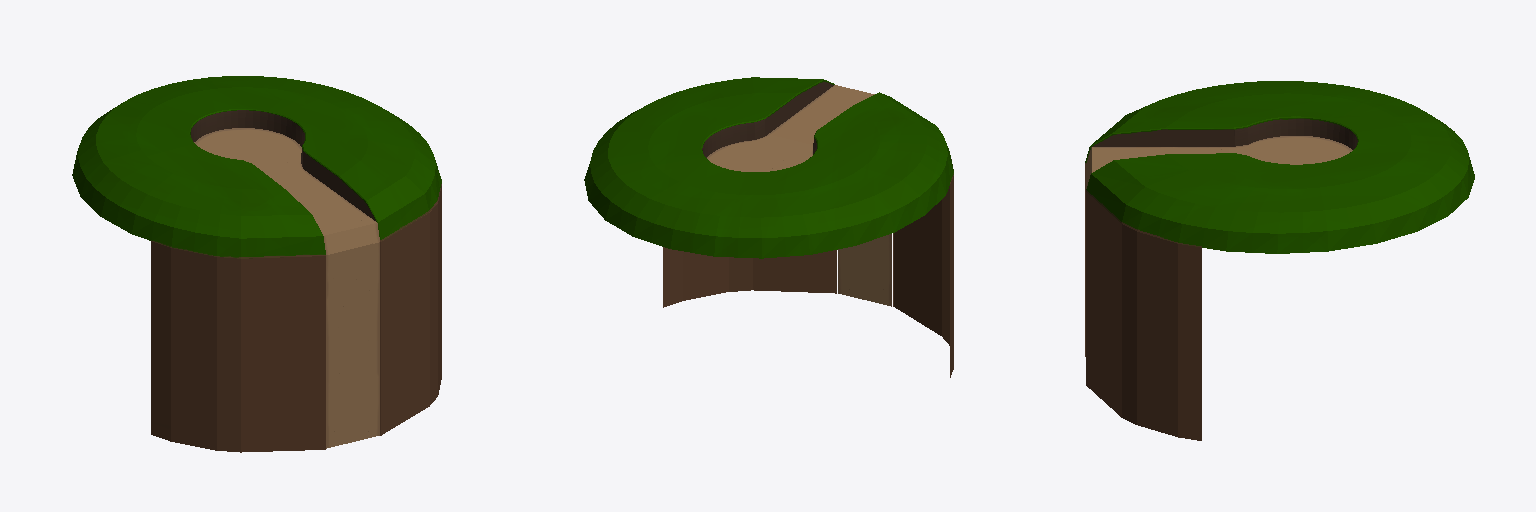
3 views of the same model, side by side, from view 1: azimuth 30°, elevation 25°; view 2: azimuth 150°, elevation 25°; view 3: azimuth 270°, elevation 25° (orthographic).
Visible parts, largest first — view 1: StartingArea_StartingArea, StartingAreaGround_StartingAreaGround; view 2: StartingArea_StartingArea, StartingAreaGround_StartingAreaGround; view 3: StartingArea_StartingArea, StartingAreaGround_StartingAreaGround.
Boxes of the visible parts, x1,y1,x2,y2 form: StartingArea_StartingArea: [72, 76, 441, 452]; StartingAreaGround_StartingAreaGround: [194, 128, 379, 448]; StartingArea_StartingArea: [584, 77, 953, 377]; StartingAreaGround_StartingAreaGround: [707, 85, 891, 306]; StartingArea_StartingArea: [1085, 81, 1474, 440]; StartingAreaGround_StartingAreaGround: [1086, 136, 1352, 188].
Bounding box in the file's own units: 47.85 × 33.72 × 51.72.
Materials: 2 (2 with a texture image).